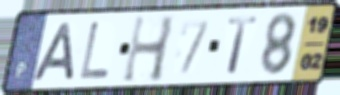7: (176, 19, 211, 76)
8: (257, 10, 299, 79)
A: (29, 20, 77, 83)
H: (120, 13, 178, 85)
L: (77, 20, 112, 81)
T: (226, 15, 260, 76)
